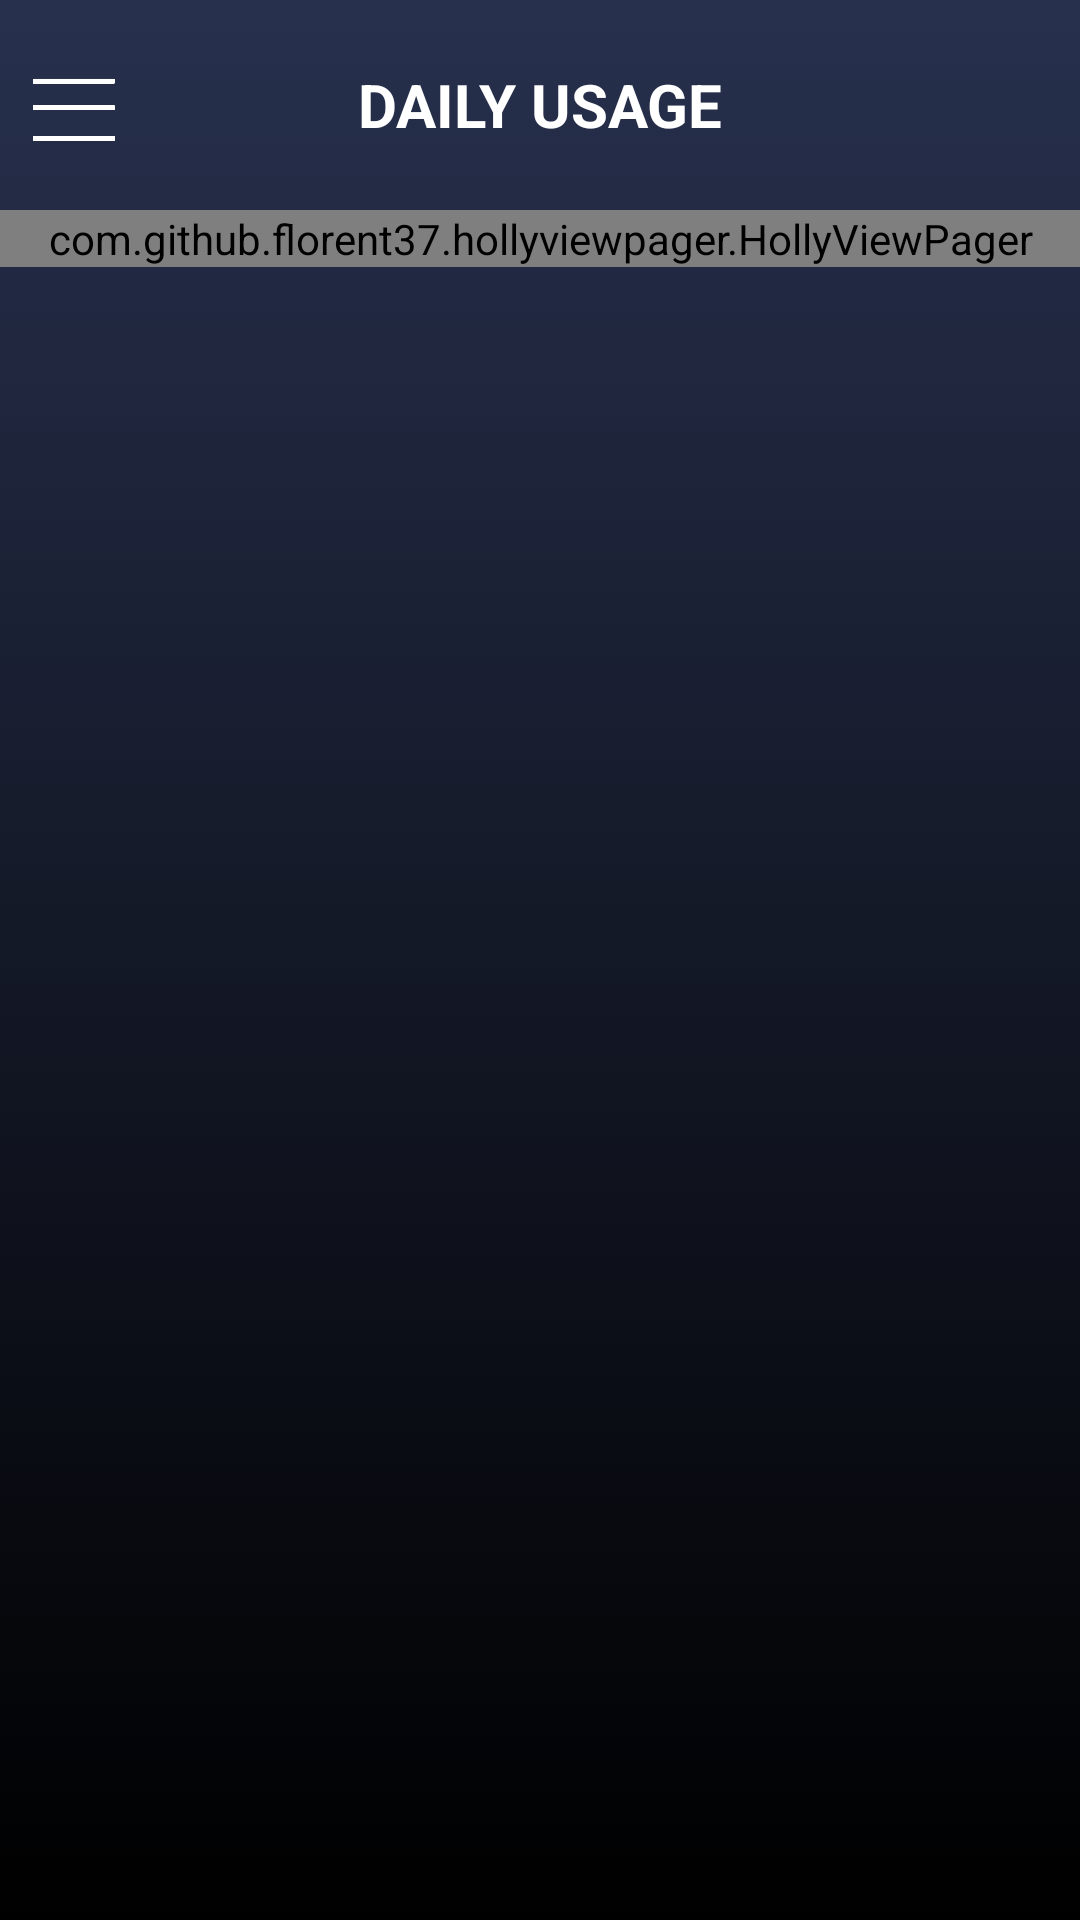

Screen size 1080 x 1920. Icon name, then its box in pixels as (x1,y1,x2,y2):
three lines: (33,79,115,141)
